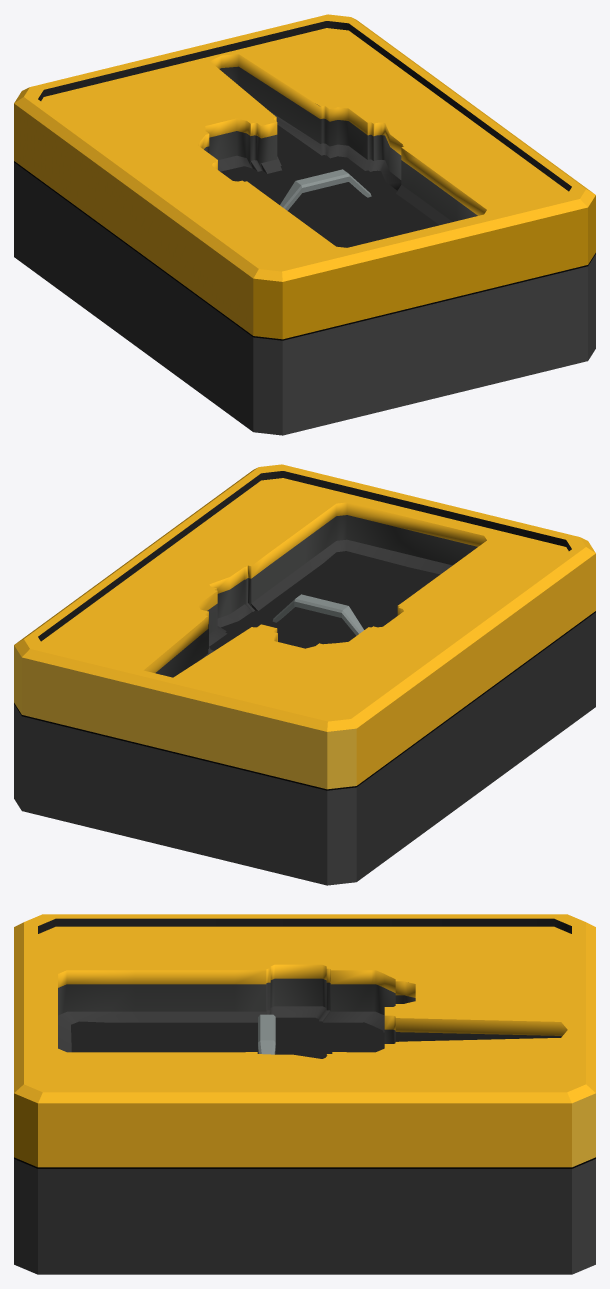
File: StructureRadioStorage.fbx
3 renders of one model, top to bottom at view 1: azimuth 30°, elevation 25°; view 2: azimuth 150°, elevation 25°; view 3: azimuth 270°, elevation 25°, orthographic. The views are drawn at different scales.
Visible parts, largest first — view 1: StructureRadioStorage; view 2: StructureRadioStorage; view 3: StructureRadioStorage.
Part boxes in pixels (bbox=[...]): StructureRadioStorage: bbox=[14, 14, 595, 435]; StructureRadioStorage: bbox=[14, 464, 595, 885]; StructureRadioStorage: bbox=[14, 914, 595, 1274].
Bounding box in the file's own units: 50 × 22.29 × 65.94.
